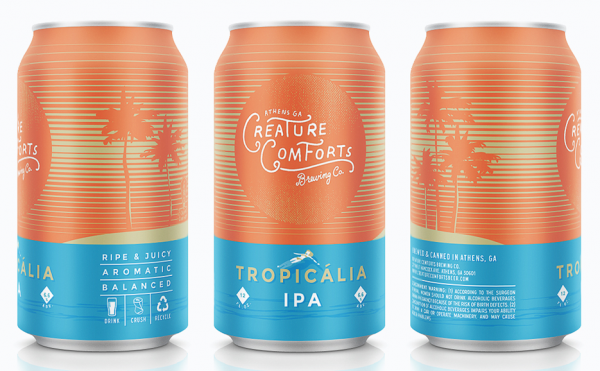beer can: (409, 22, 583, 354), (211, 24, 386, 354), (18, 22, 187, 348)
